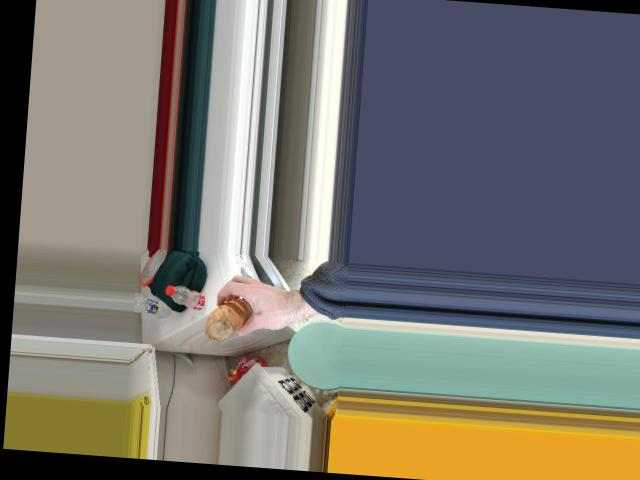sweet_potato: (206, 296, 256, 340)
